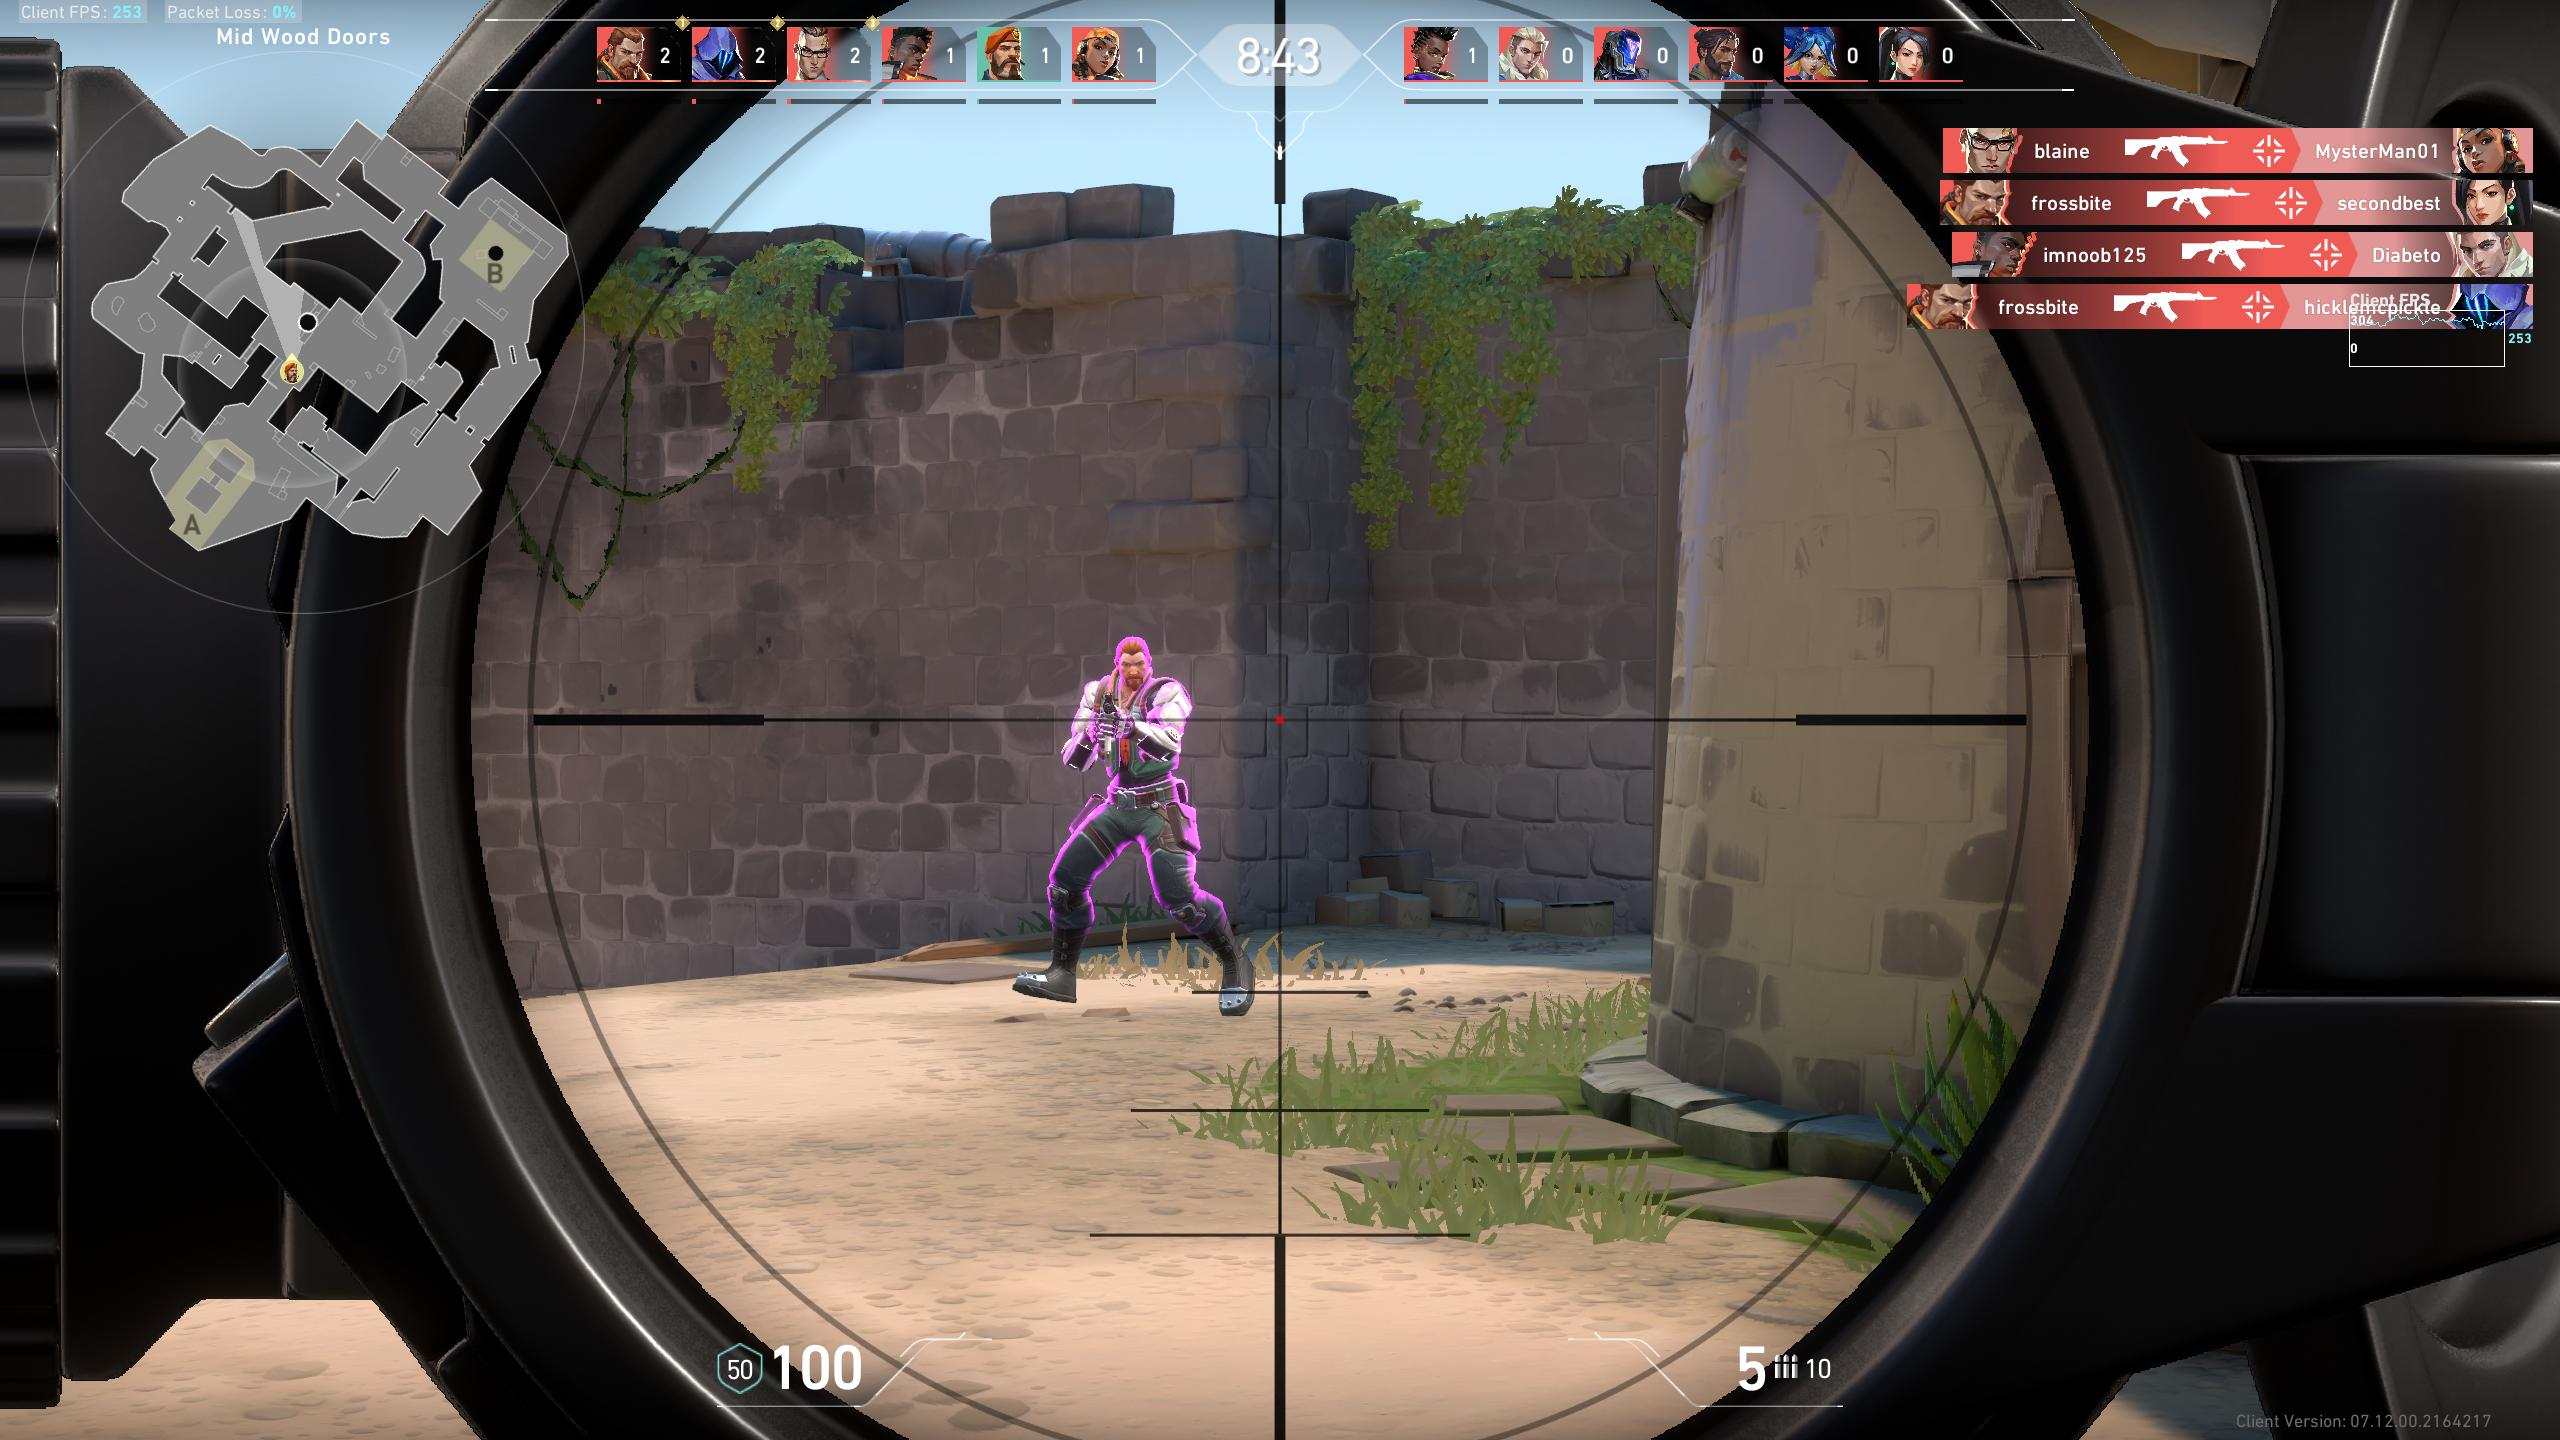enemyBody: (1073, 696, 1192, 826)
enemyHead: (1087, 633, 1178, 682)
